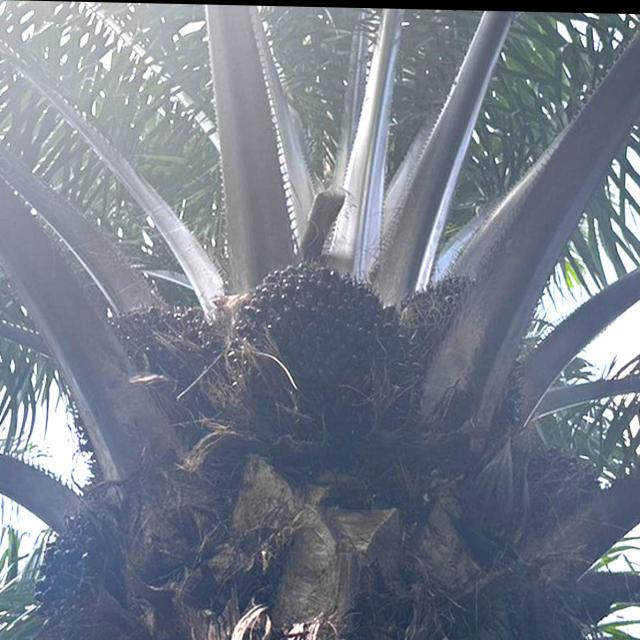almost: (227, 253, 406, 422)
